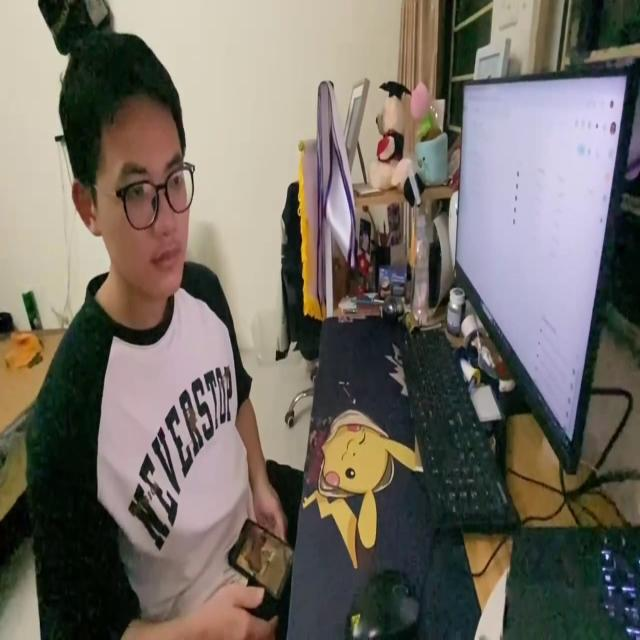laptop: (450, 53, 630, 476)
phone: (225, 514, 292, 599)
student: (30, 28, 290, 640)
